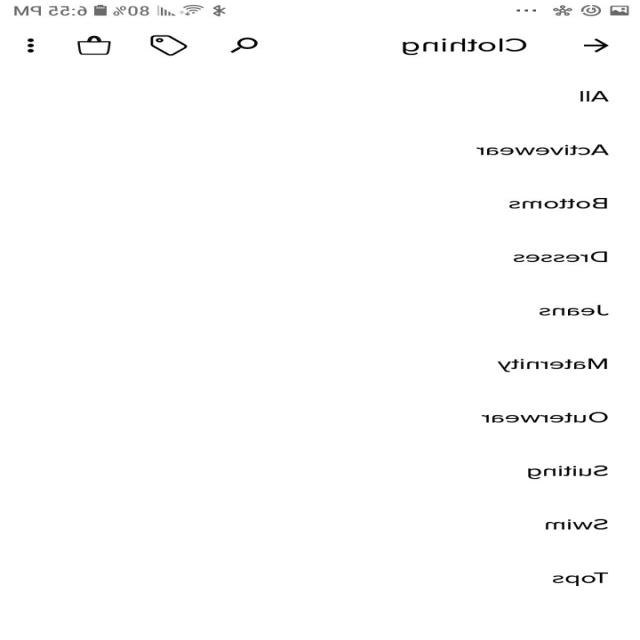Icon: (150, 35, 188, 56), (77, 36, 112, 55), (230, 37, 258, 53), (584, 38, 609, 52), (28, 38, 36, 53)
Text: (402, 38, 528, 55), (498, 358, 608, 372), (476, 144, 609, 155), (481, 412, 608, 422), (528, 465, 609, 479), (513, 251, 607, 262), (509, 198, 608, 208), (539, 304, 609, 316), (552, 572, 608, 586), (546, 518, 608, 530), (580, 90, 610, 102)
